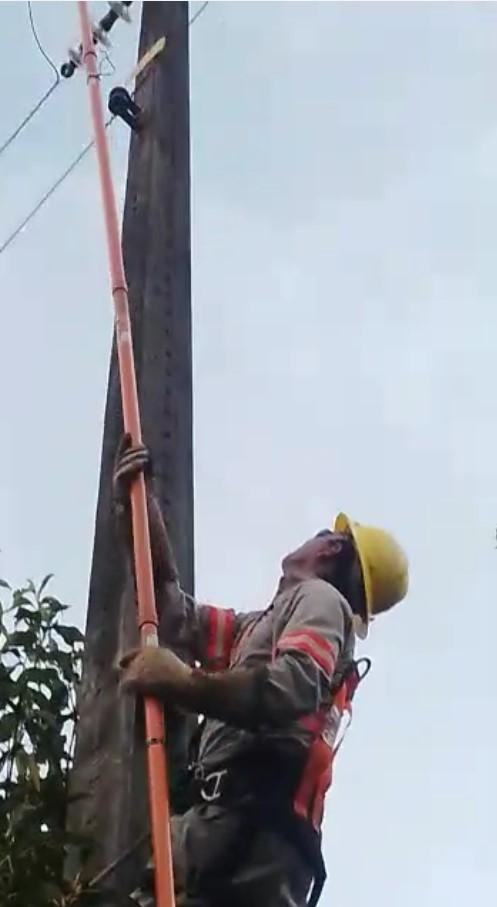Vara_Manobra: (74, 1, 180, 907)
